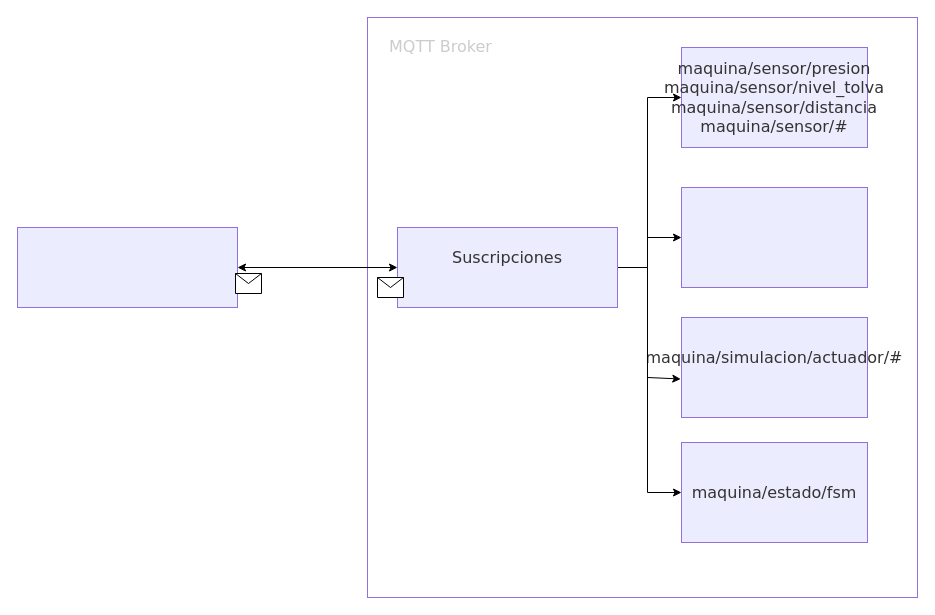
Image size: 935x615. Some labels were removed from this diagram. Here are the shapes that lost their labels. From the top down, the centre of each, then its label:
At point (774, 237): "maquina/actuador/electrovalvula maquina/actuador/piston maquina/actuador/#".
At point (127, 267): "MQTT Clientes ESP32 Node-Red Webots".
